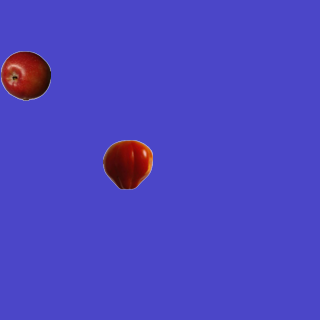Apple Braeburn: (0, 50, 50, 100)
Tomato 1: (102, 139, 152, 189)
